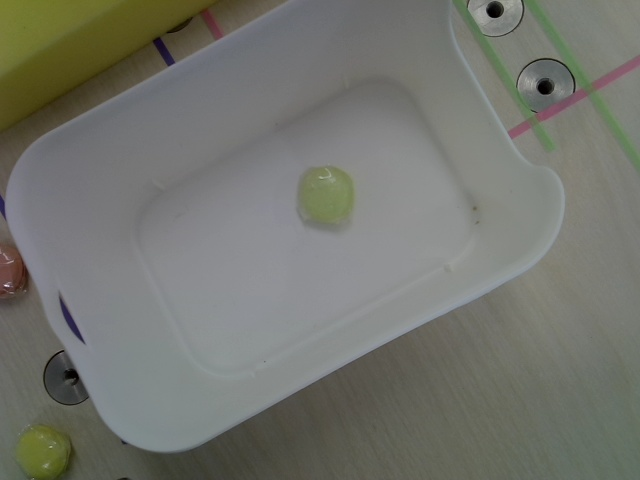씨앗: (298, 166, 356, 229), (15, 423, 72, 480)
